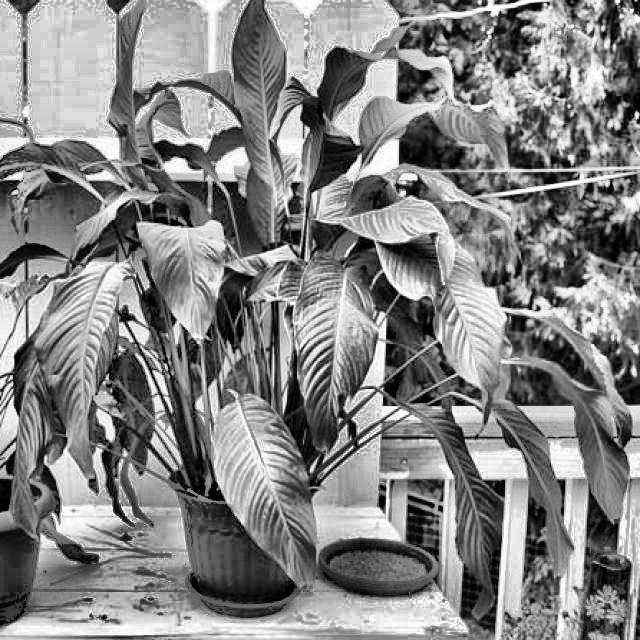plants: (10, 14, 625, 614), (10, 341, 137, 568), (212, 389, 329, 594)
